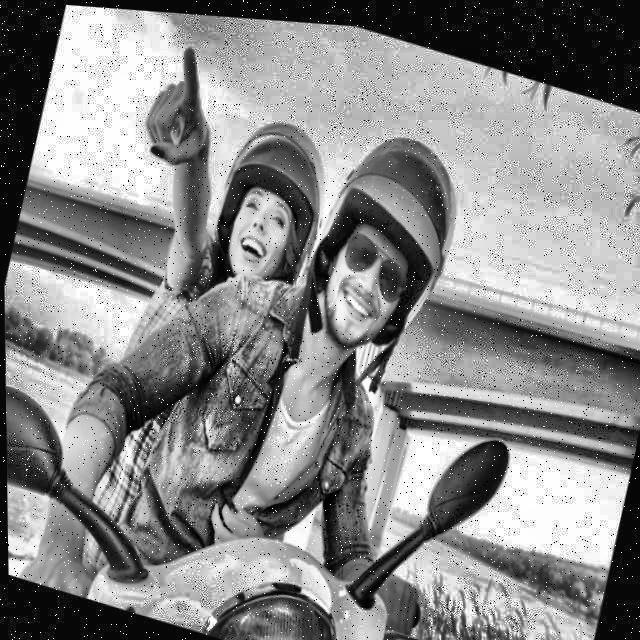Helmet: (196, 94, 345, 301)
